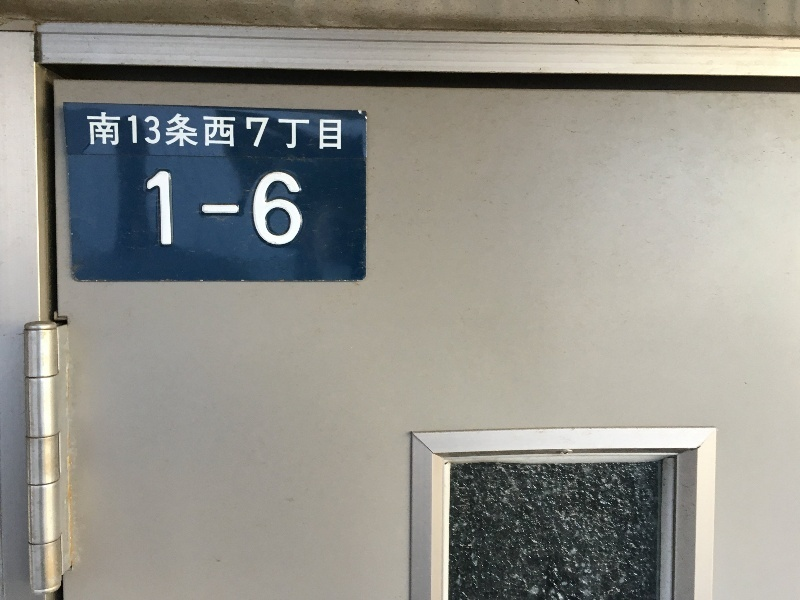text: (145, 167, 160, 248), (161, 167, 176, 248), (177, 167, 192, 248), (193, 167, 208, 248), (209, 167, 224, 248), (225, 167, 240, 248), (241, 167, 256, 248), (257, 167, 272, 248), (273, 167, 288, 248), (289, 167, 304, 248), (97, 111, 112, 154), (113, 111, 128, 154), (129, 111, 144, 154), (145, 111, 160, 154), (161, 111, 176, 154), (177, 111, 192, 154), (193, 111, 208, 154), (209, 111, 224, 154), (225, 111, 240, 154), (241, 111, 256, 154), (257, 111, 272, 154), (273, 111, 288, 154), (289, 111, 304, 154), (305, 111, 320, 154), (321, 111, 336, 154), (88, 111, 96, 154), (337, 111, 344, 154)
